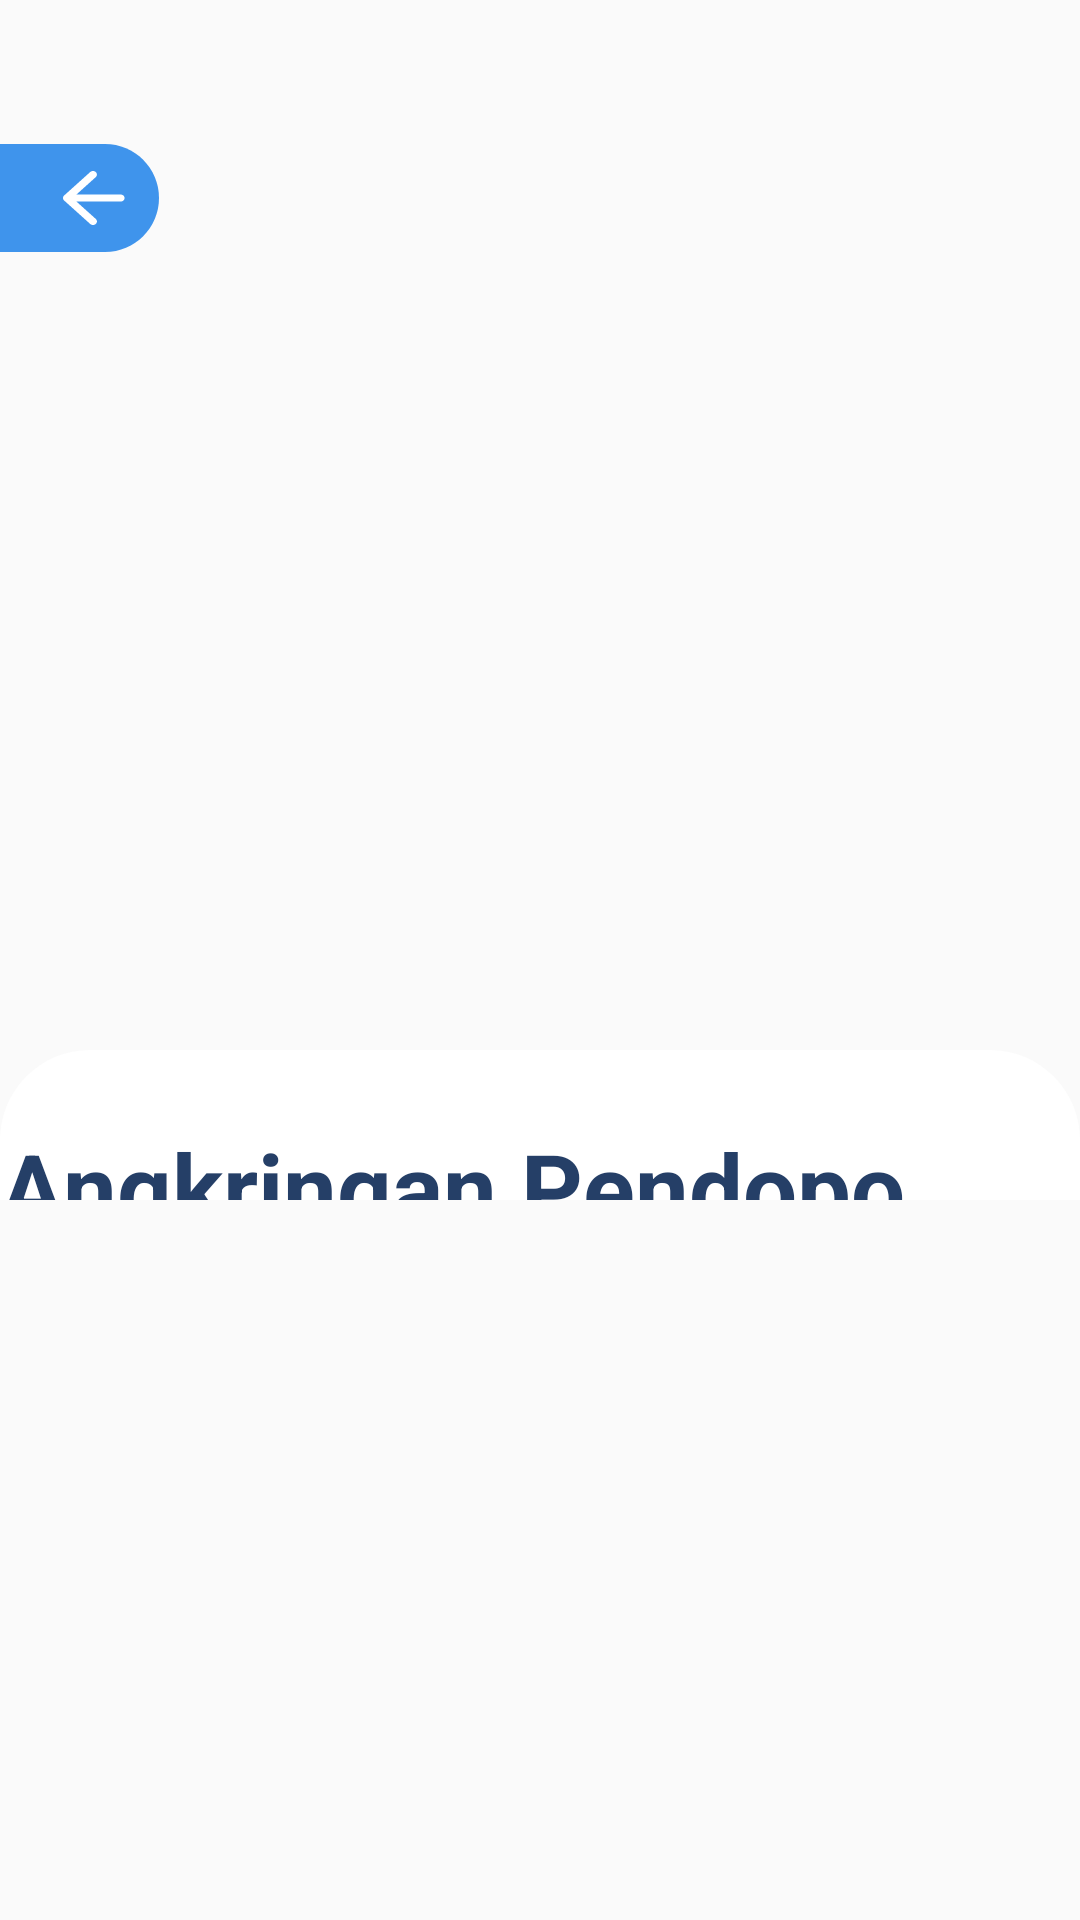

Screen size 1080w x 1920h. Icon name, then its center in pixels as point (x, y):
back: point (79, 198)
